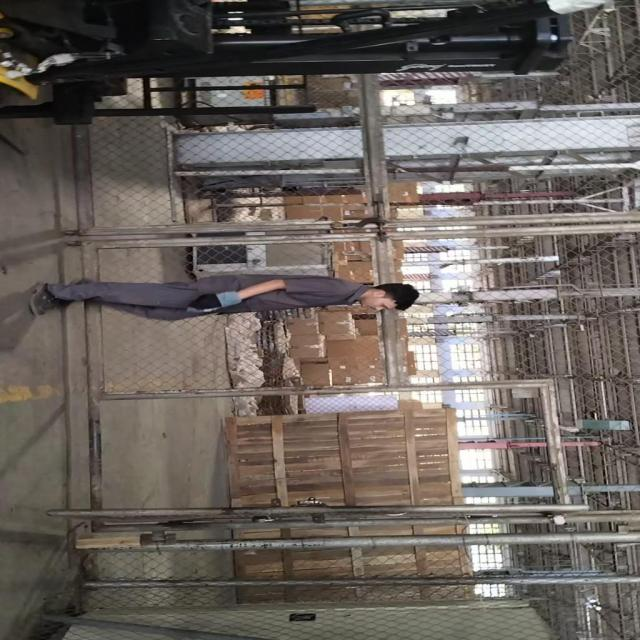Gloves-Detection: (188, 289, 242, 313)
